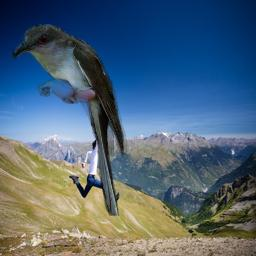Cuckoo: (11, 24, 128, 216)
